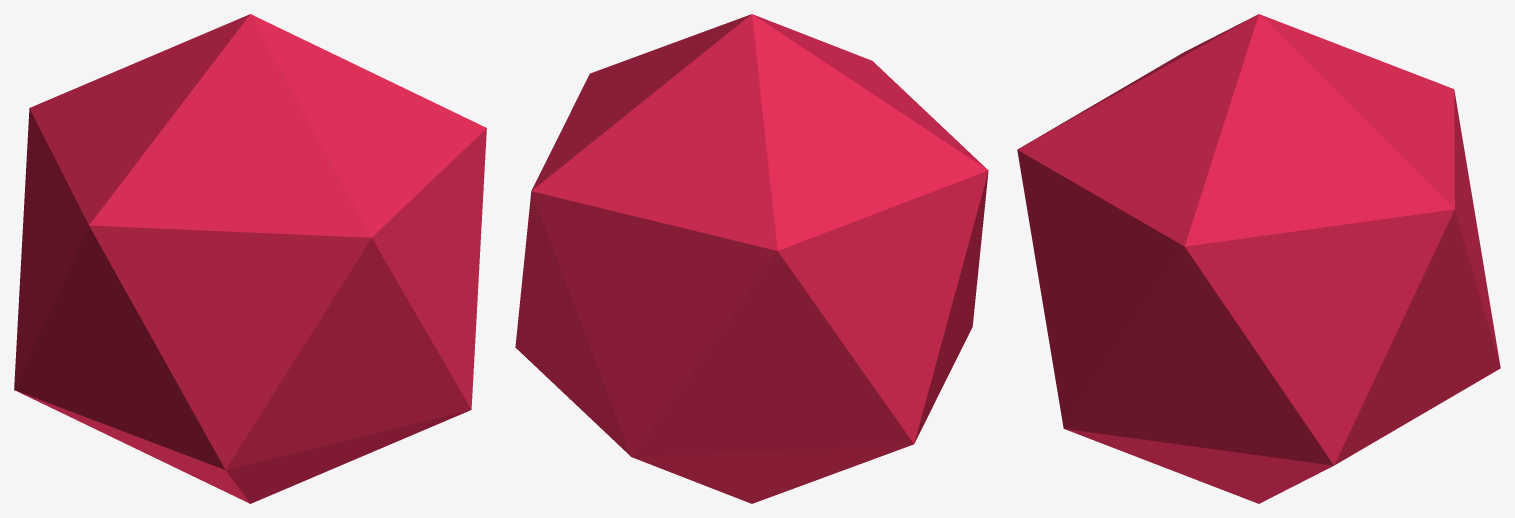
File: Bullet.fbx
3 renders of one model, left to right at view 1: azimuth 30°, elevation 25°; view 2: azimuth 150°, elevation 25°; view 3: azimuth 270°, elevation 25°, orthographic.
Visible parts, largest first — view 1: Bullet; view 2: Bullet; view 3: Bullet.
Boxes of the visible parts, x1,y1,x2,y2 form: Bullet: (14, 14, 486, 503); Bullet: (515, 14, 988, 503); Bullet: (1017, 14, 1500, 503).
Bounding box in the file's own units: 2.74 × 3.21 × 2.88.
